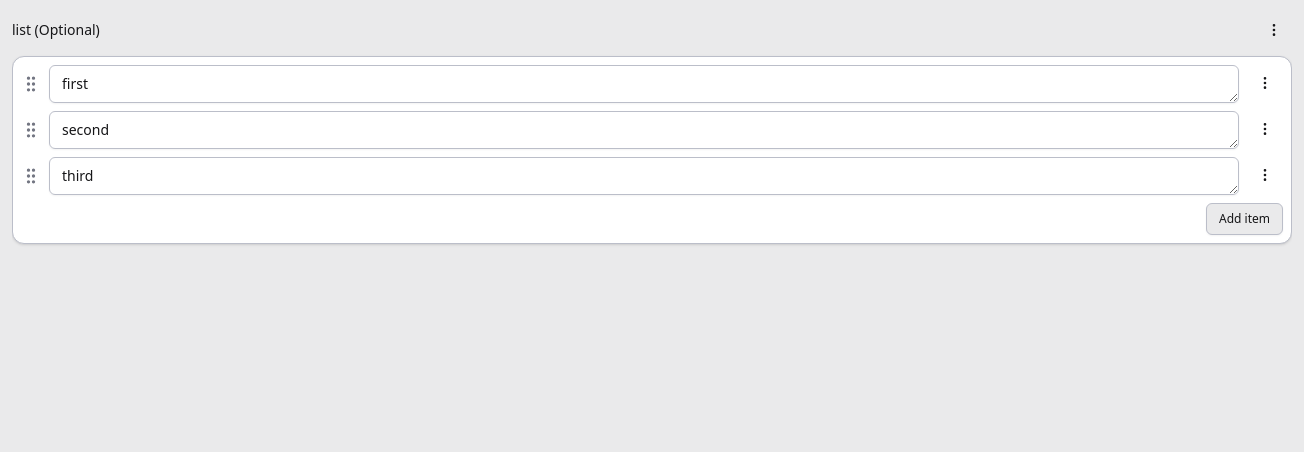
Test: SchemaFormInputArrayList › move to top/bottom menu options › does not show 'Move to top' for first item
Click the first array item's menu (index 1 - after property menu)
Click the 2nd button named "open menu" at (1265, 83), box [1247, 65, 1283, 101]
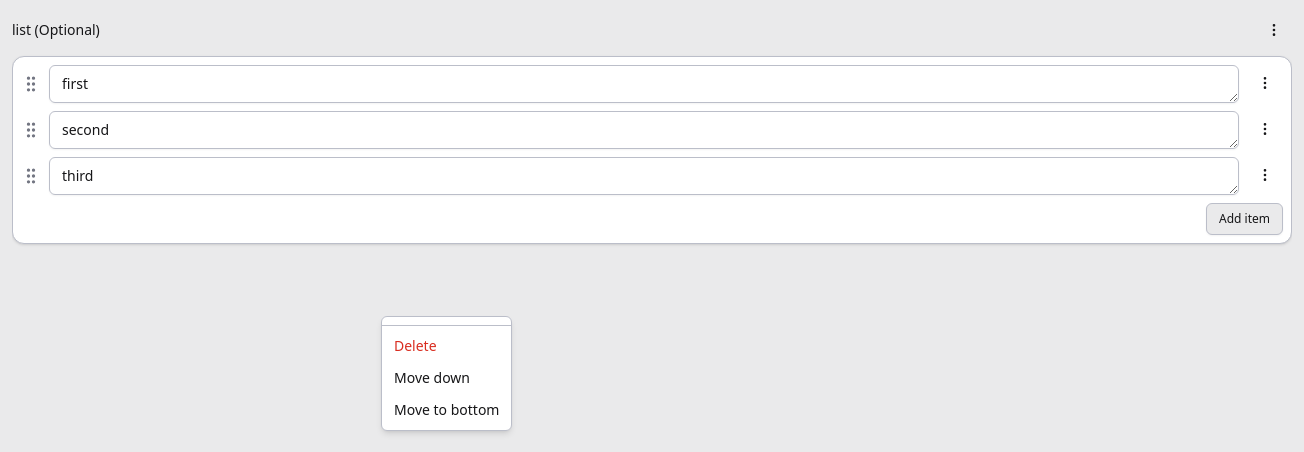
Expected: the menu item "Delete" is shown, [394, 336, 437, 355]
